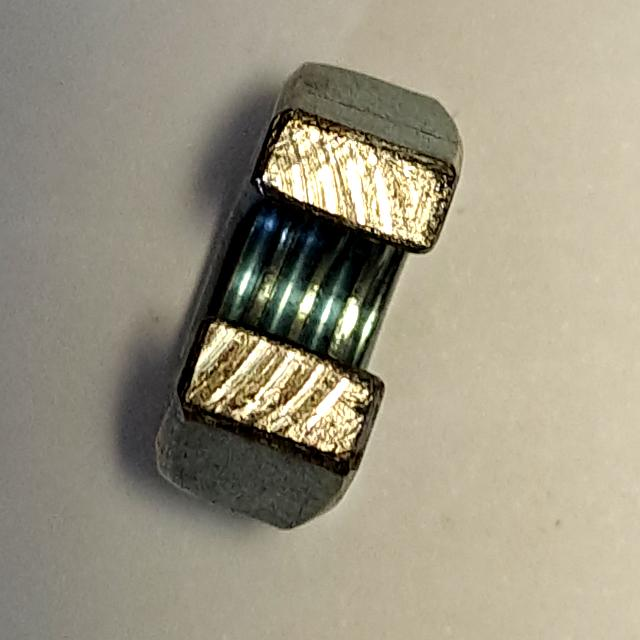Side-Fracture: (141, 43, 472, 542)
